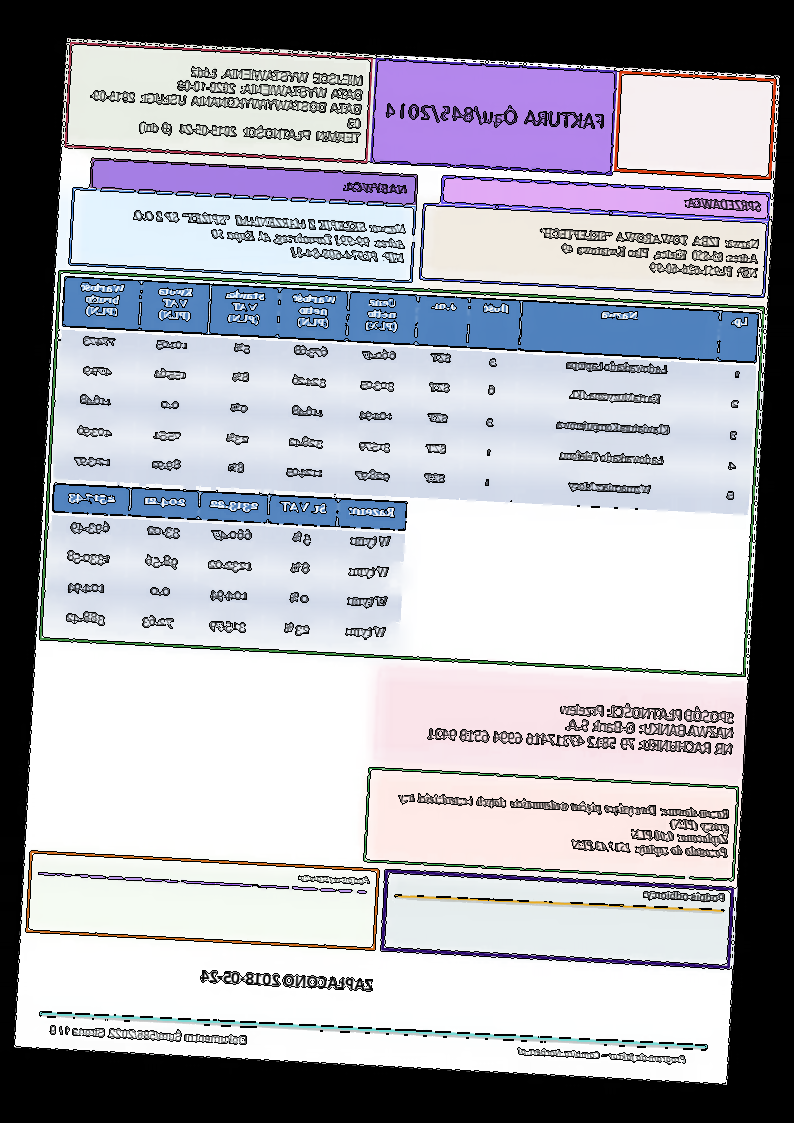Table: (55, 273, 761, 515), (44, 481, 408, 655)
TextBox: (85, 56, 367, 148), (393, 787, 733, 861), (423, 690, 737, 761), (129, 206, 409, 264), (535, 222, 763, 283), (383, 96, 608, 136), (197, 965, 375, 995), (49, 1021, 251, 1047), (517, 1043, 689, 1067), (640, 886, 728, 906), (297, 867, 373, 890), (682, 194, 763, 215), (340, 177, 412, 199)
